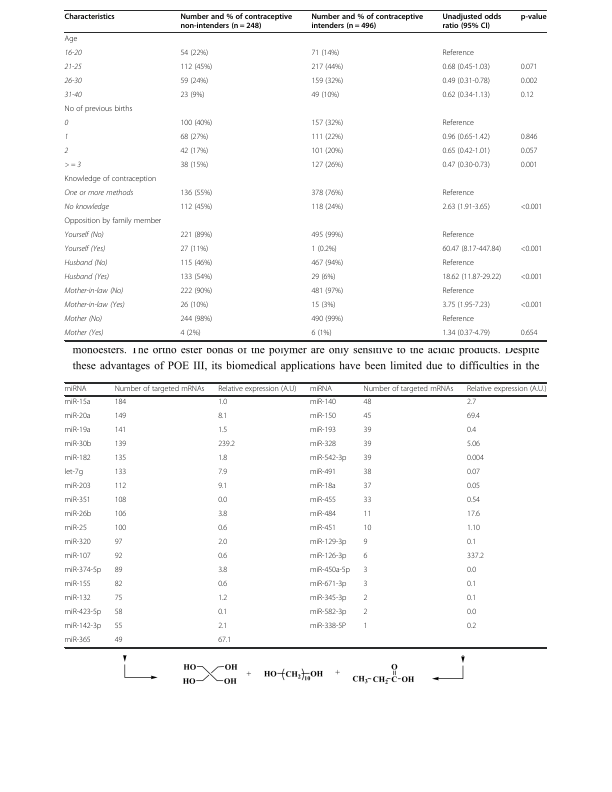borderless: (63, 9, 546, 340), (63, 381, 546, 647)
cell: (179, 13, 293, 31), (310, 13, 424, 31), (441, 13, 502, 31), (64, 217, 162, 227), (64, 175, 157, 185), (362, 385, 454, 394), (114, 385, 205, 394), (466, 385, 547, 394), (217, 385, 297, 394), (64, 105, 133, 115), (64, 189, 134, 198), (441, 245, 502, 255), (441, 273, 502, 283), (64, 301, 126, 310), (64, 287, 124, 296), (441, 63, 491, 73), (441, 77, 491, 87), (441, 91, 491, 101), (441, 133, 491, 143), (441, 147, 491, 157), (441, 161, 491, 171), (441, 203, 491, 213), (441, 301, 491, 311), (441, 329, 491, 339), (64, 13, 116, 22), (64, 203, 110, 213), (309, 566, 351, 576), (64, 273, 110, 282), (64, 259, 108, 268), (309, 454, 347, 464), (309, 538, 347, 548), (309, 552, 347, 562), (64, 566, 102, 576), (309, 580, 347, 590), (309, 594, 347, 604), (64, 608, 102, 618), (309, 608, 347, 618), (64, 622, 102, 632), (309, 622, 347, 632), (64, 245, 106, 254), (64, 231, 105, 240), (64, 329, 104, 338), (64, 315, 103, 324), (441, 49, 475, 59), (179, 63, 213, 73), (310, 63, 344, 73), (310, 77, 344, 87), (179, 119, 213, 129), (310, 119, 344, 129), (441, 119, 475, 129), (310, 133, 344, 143), (310, 147, 344, 157), (310, 161, 344, 171), (179, 189, 213, 199), (310, 189, 344, 199), (441, 189, 475, 199), (179, 203, 213, 213), (310, 203, 344, 213), (179, 231, 213, 241), (310, 231, 344, 241), (441, 231, 475, 241), (179, 259, 213, 269), (310, 259, 344, 269), (441, 259, 475, 269), (179, 273, 213, 283), (179, 287, 213, 297), (310, 287, 344, 297), (441, 287, 475, 297), (179, 315, 213, 325), (310, 315, 344, 325), (441, 315, 475, 325), (179, 49, 209, 59), (310, 49, 340, 59), (179, 77, 209, 87), (310, 91, 340, 101), (179, 133, 209, 143), (179, 147, 209, 157), (179, 161, 209, 171), (179, 245, 209, 255), (179, 301, 209, 311), (310, 245, 338, 255), (309, 398, 337, 408), (309, 412, 337, 422), (309, 426, 337, 436), (64, 440, 92, 450), (309, 440, 337, 450), (309, 468, 337, 478), (309, 482, 337, 492), (309, 496, 337, 506), (64, 510, 92, 520), (309, 510, 337, 520), (309, 524, 337, 534), (64, 398, 91, 408), (64, 412, 91, 422), (64, 426, 91, 436), (64, 454, 91, 464), (64, 482, 91, 492), (64, 496, 91, 506), (64, 538, 91, 548), (64, 552, 91, 562), (64, 580, 91, 590), (64, 594, 91, 604), (64, 636, 91, 646), (179, 91, 205, 101), (310, 273, 336, 283), (310, 301, 336, 311), (520, 13, 547, 22), (64, 524, 88, 534), (520, 203, 543, 213), (520, 245, 543, 255), (520, 273, 543, 283), (520, 301, 543, 311), (179, 329, 201, 339), (310, 329, 332, 339), (309, 385, 333, 394), (64, 385, 87, 394), (64, 468, 84, 478), (217, 440, 236, 450), (466, 454, 485, 464), (466, 552, 485, 562), (520, 63, 538, 73), (520, 77, 538, 87), (520, 133, 538, 143), (520, 147, 538, 157), (520, 161, 538, 171), (520, 329, 538, 339), (64, 49, 82, 58), (64, 63, 82, 72), (64, 77, 82, 86), (64, 91, 82, 100), (64, 161, 82, 170), (520, 91, 535, 101), (466, 412, 481, 422), (466, 440, 481, 450), (466, 468, 481, 478), (466, 482, 481, 492), (466, 496, 481, 506), (466, 510, 481, 520), (466, 524, 481, 534), (217, 636, 232, 646), (64, 35, 78, 45), (114, 398, 127, 408), (114, 412, 127, 422), (114, 426, 127, 436), (114, 440, 127, 450), (114, 454, 127, 464), (114, 468, 127, 478), (114, 482, 127, 492), (114, 496, 127, 506), (114, 510, 127, 520), (114, 524, 127, 534), (217, 398, 228, 408), (466, 398, 477, 408), (217, 412, 228, 422), (217, 426, 228, 436), (466, 426, 477, 436), (217, 454, 228, 464), (217, 468, 228, 478), (217, 482, 228, 492), (217, 496, 228, 506), (217, 510, 228, 520), (217, 524, 228, 534), (217, 538, 228, 548), (466, 538, 477, 548), (217, 552, 228, 562), (217, 566, 228, 576), (466, 566, 477, 576), (217, 580, 228, 590), (466, 580, 477, 590), (217, 594, 228, 604), (466, 594, 477, 604), (217, 608, 228, 618), (466, 608, 477, 618), (217, 622, 228, 632), (466, 622, 477, 632), (362, 398, 372, 408), (362, 412, 372, 422), (362, 426, 372, 436), (362, 440, 372, 450), (362, 454, 372, 464), (362, 468, 372, 478), (362, 482, 372, 492), (362, 496, 372, 506), (362, 510, 372, 520), (362, 524, 372, 534), (114, 538, 123, 548), (114, 552, 123, 562), (114, 566, 123, 576), (114, 580, 123, 590), (114, 594, 123, 604), (114, 608, 123, 618), (114, 622, 123, 632), (114, 636, 123, 646), (362, 538, 368, 548), (362, 552, 368, 562), (362, 566, 368, 576), (362, 580, 368, 590), (362, 594, 368, 604), (362, 608, 368, 618), (362, 622, 368, 632), (64, 119, 69, 128), (64, 133, 69, 142), (64, 147, 69, 156)
